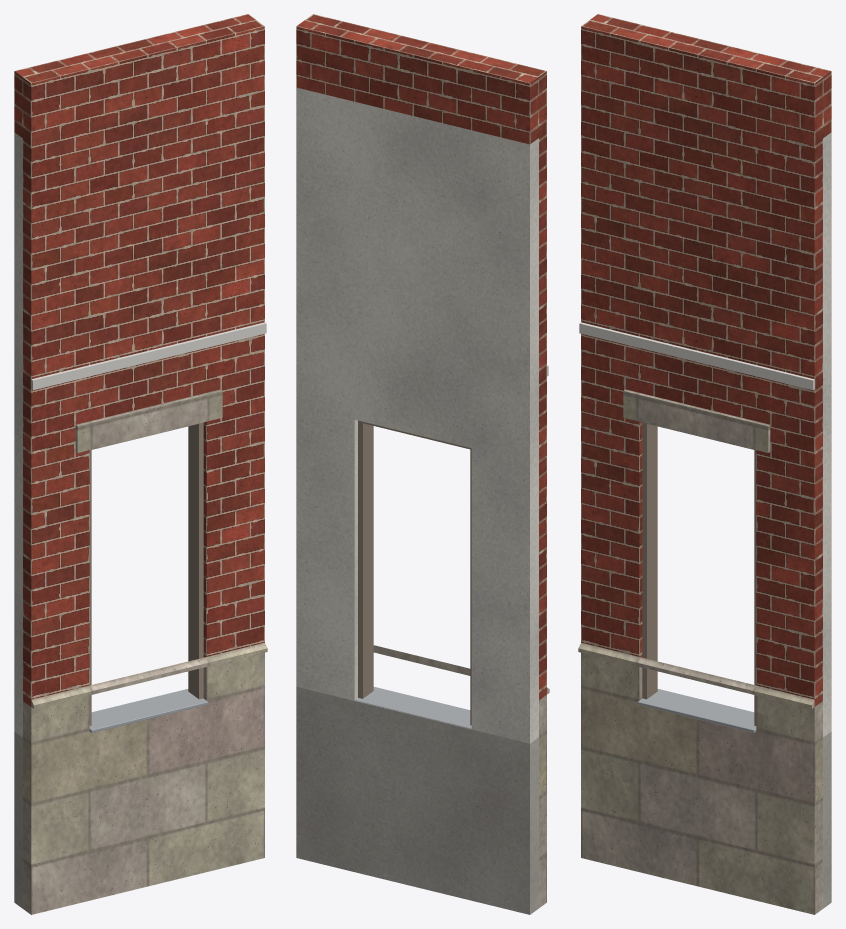
Rendered from b_door_s.glb.
3 views of the same model, side by side, from view 1: azimuth 30°, elevation 25°; view 2: azimuth 150°, elevation 25°; view 3: azimuth 330°, elevation 25° (orthographic).
Visible parts, largest first — view 1: b_door_s_brick, b_door_s_stone, b_door_s_plaster, b_door_s_trim, b_door_s_coping, b_door_s_steel, b_door_s_concrete; view 2: b_door_s_plaster, b_door_s_concrete, b_door_s_brick, b_door_s_trim, b_door_s_stone, b_door_s_steel; view 3: b_door_s_brick, b_door_s_stone, b_door_s_plaster, b_door_s_trim, b_door_s_coping, b_door_s_steel, b_door_s_concrete.
Part boxes in pixels (x1,y1,x2,y2): b_door_s_brick: (14,14,264,706); b_door_s_stone: (23,389,267,914); b_door_s_plaster: (14,132,22,737); b_door_s_trim: (89,422,203,725); b_door_s_coping: (31,322,266,390); b_door_s_steel: (89,689,208,732); b_door_s_concrete: (14,731,22,908); b_door_s_plaster: (296,87,538,743); b_door_s_concrete: (296,687,538,914); b_door_s_brick: (296,14,546,700); b_door_s_trim: (358,420,471,725); b_door_s_stone: (373,645,549,907); b_door_s_steel: (355,687,471,728); b_door_s_brick: (581,14,831,706); b_door_s_stone: (578,389,822,914); b_door_s_plaster: (823,132,831,737); b_door_s_trim: (642,422,756,725); b_door_s_coping: (579,322,814,390); b_door_s_steel: (637,689,756,732); b_door_s_concrete: (823,731,831,908).
Size of the model in its own units: 2 by 6.8 by 0.29.
Materials: 7 (4 with a texture image).
